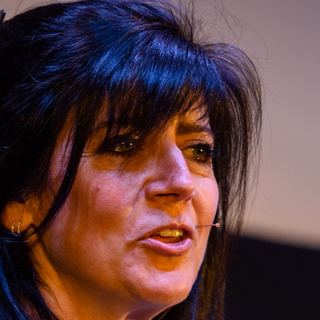eye: (98, 134, 142, 159), (183, 138, 217, 165)
